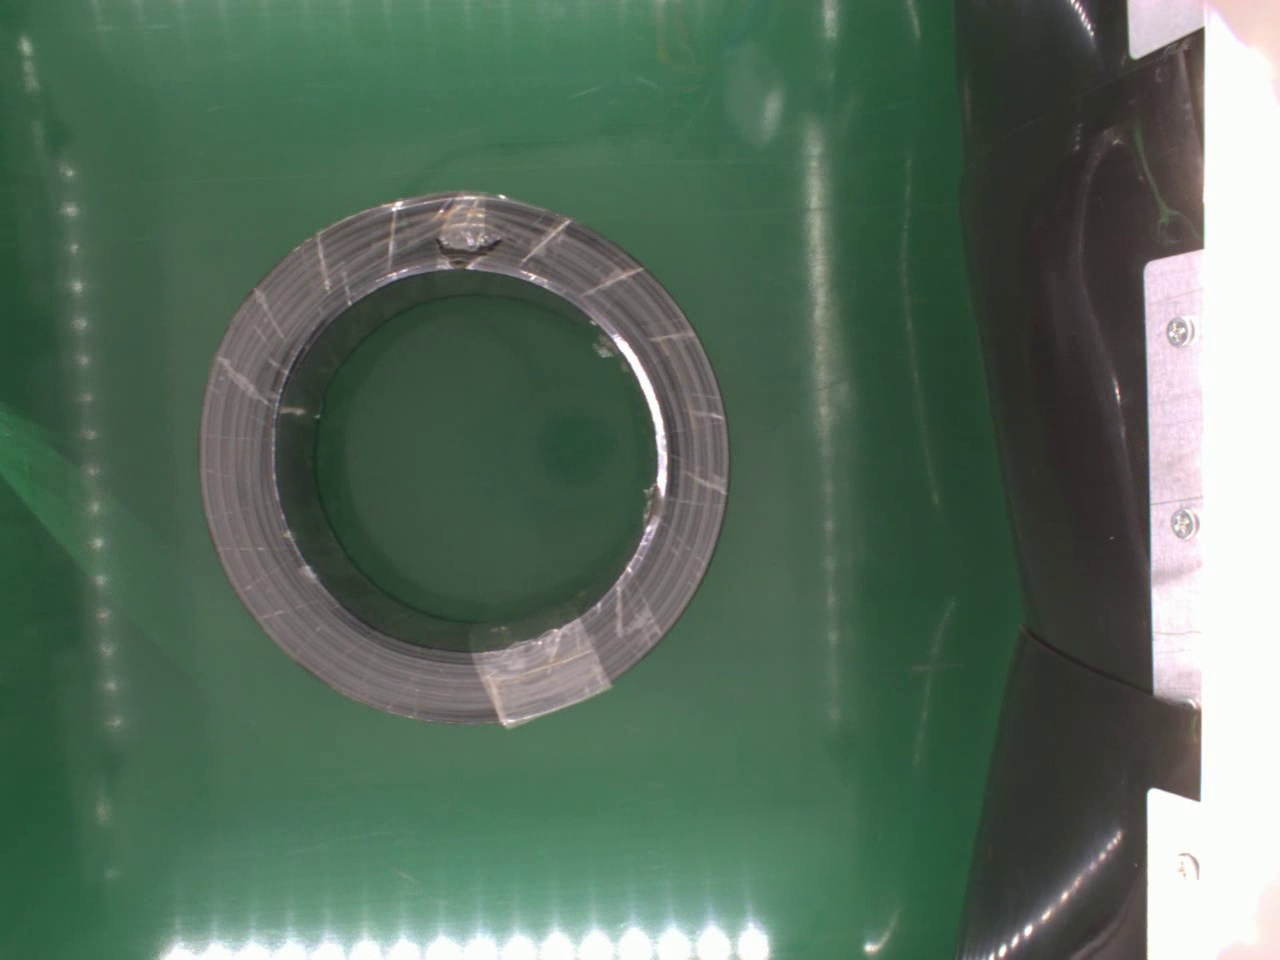black: (199, 185, 741, 726)
